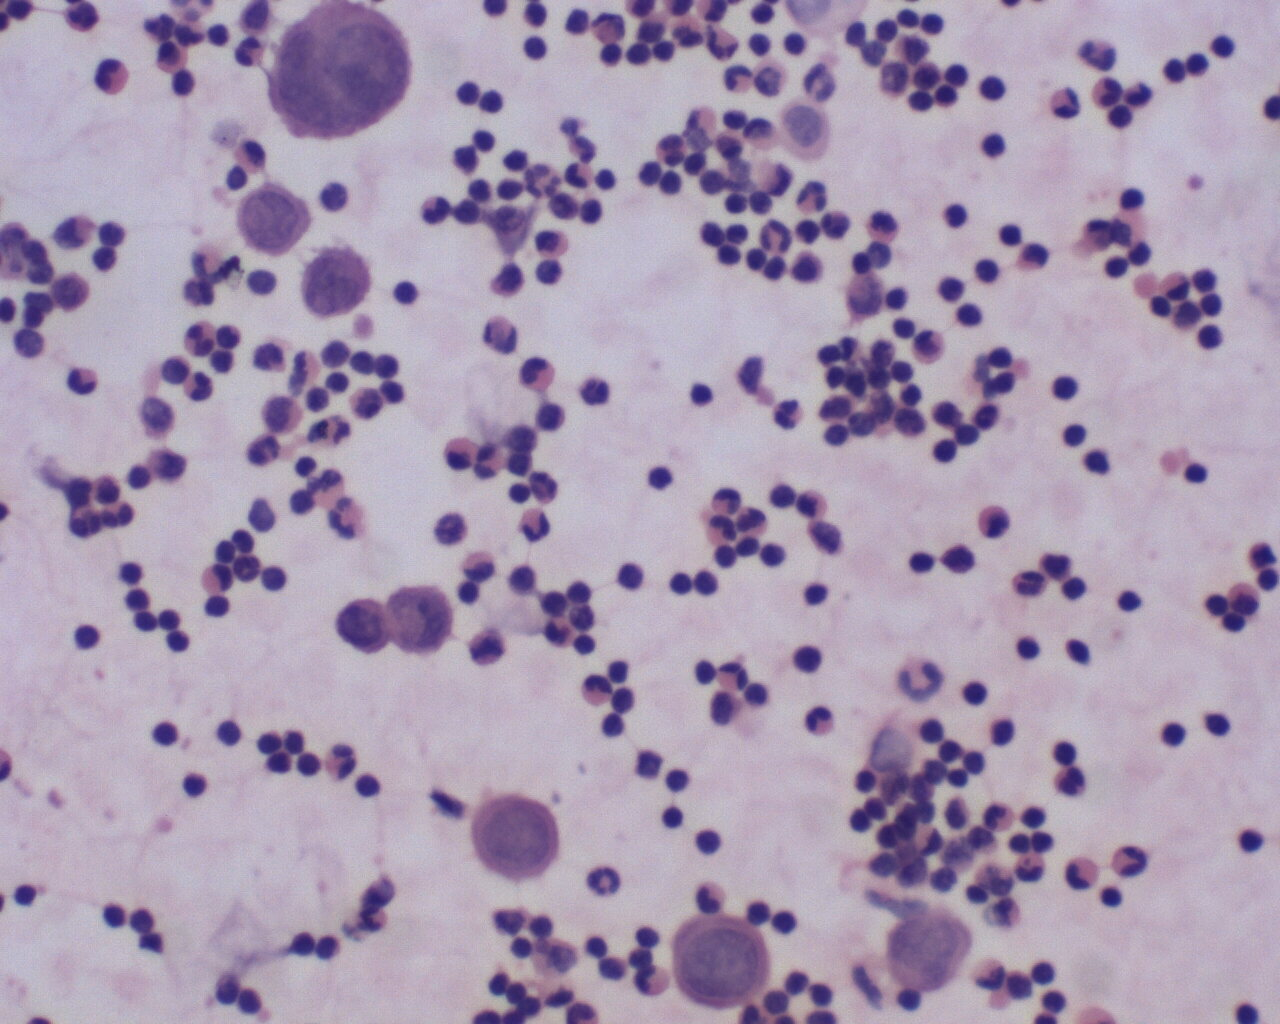ab: (263, 5, 415, 144), (672, 912, 776, 1011), (467, 787, 556, 887), (297, 245, 372, 323), (238, 185, 312, 260), (331, 595, 391, 654)
lymph: (787, 639, 831, 677), (612, 560, 653, 600), (67, 620, 107, 657), (1154, 717, 1191, 754), (145, 716, 182, 754), (1013, 627, 1048, 667), (386, 275, 423, 308), (522, 30, 558, 65), (1049, 372, 1083, 408), (939, 197, 973, 233), (177, 768, 211, 800)
neutro: (324, 496, 372, 546), (90, 54, 136, 100), (765, 394, 812, 438), (60, 359, 102, 403), (793, 176, 834, 217), (416, 189, 458, 230), (716, 59, 760, 97), (1088, 72, 1128, 113), (585, 862, 624, 904), (1110, 840, 1148, 881), (515, 507, 554, 545), (802, 703, 843, 739), (1011, 567, 1050, 604), (699, 513, 740, 548)
